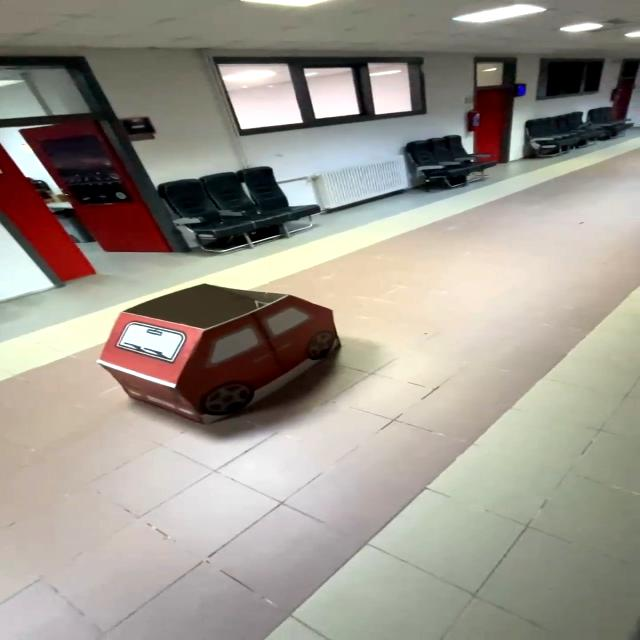red_car: (75, 276, 378, 426)
